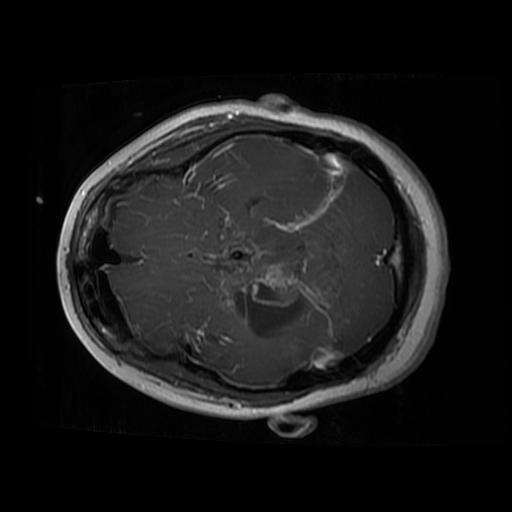glioma: (217, 227, 318, 348)
